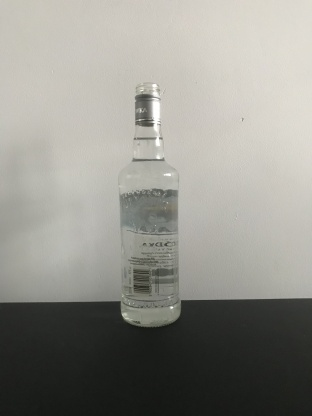nakretka: (132, 78, 163, 126)
